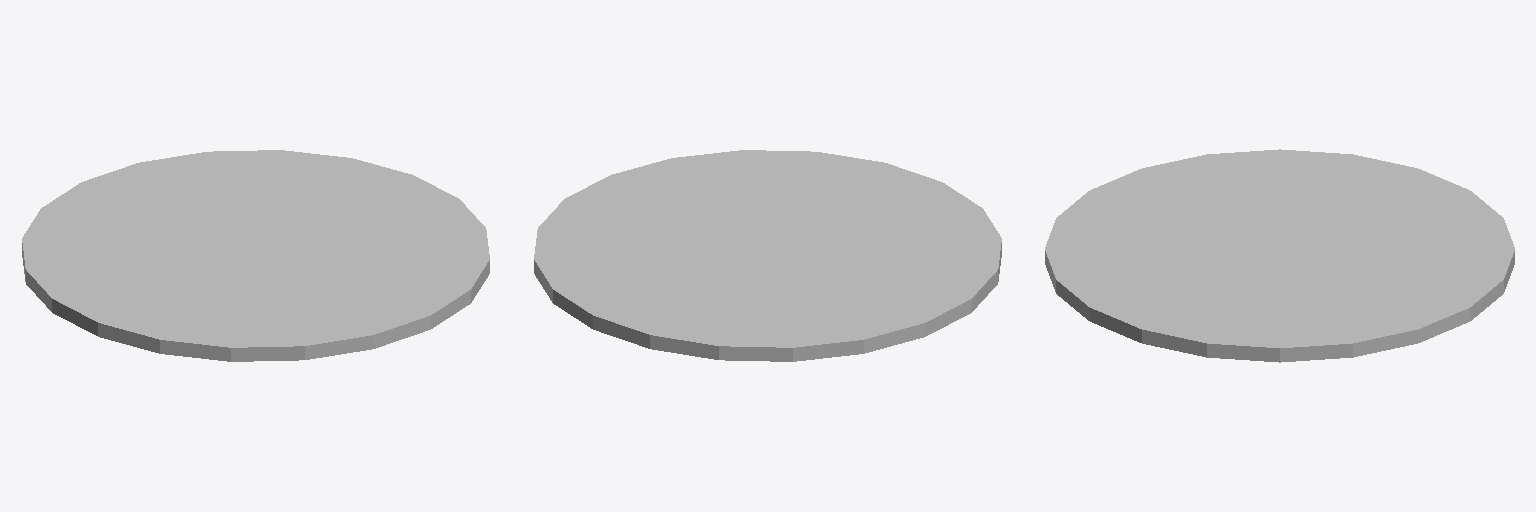
File: normalmap.obj
The picture shows the model from 3 angles: view 1: azimuth 30°, elevation 25°; view 2: azimuth 150°, elevation 25°; view 3: azimuth 270°, elevation 25°; orthographic projection.
Visible parts, largest first — view 1: Cylinder001_Mesh; view 2: Cylinder001_Mesh; view 3: Cylinder001_Mesh.
Part boxes in pixels (x1,y1,x2,y2): Cylinder001_Mesh: (22,150,489,361); Cylinder001_Mesh: (534,150,1001,361); Cylinder001_Mesh: (1045,149,1514,362).
Bounding box in the file's own units: 70.29 × 2.33 × 70.29.